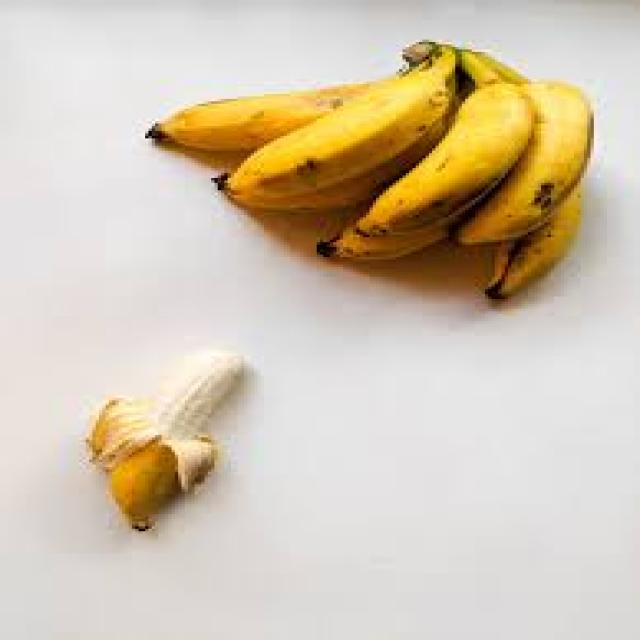banana: (142, 37, 594, 299), (84, 341, 254, 544)
